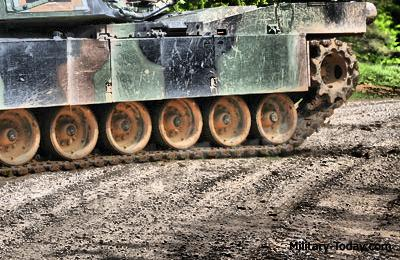tanks: (1, 1, 376, 178)
